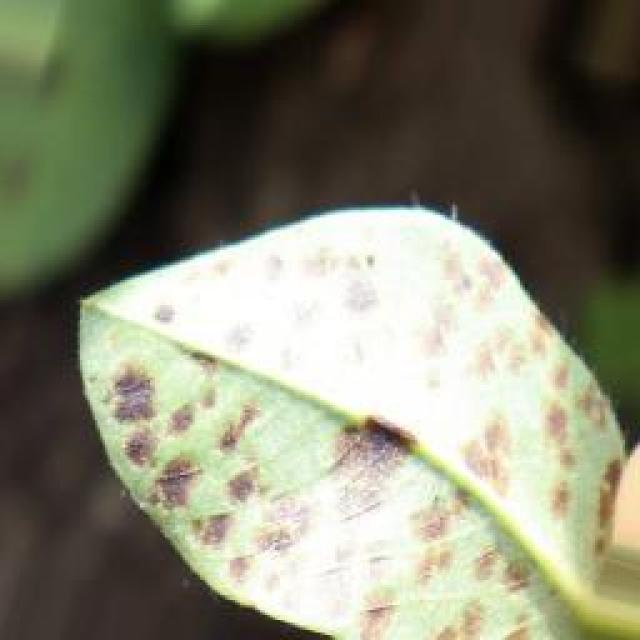Whitefly: (69, 215, 601, 640)
